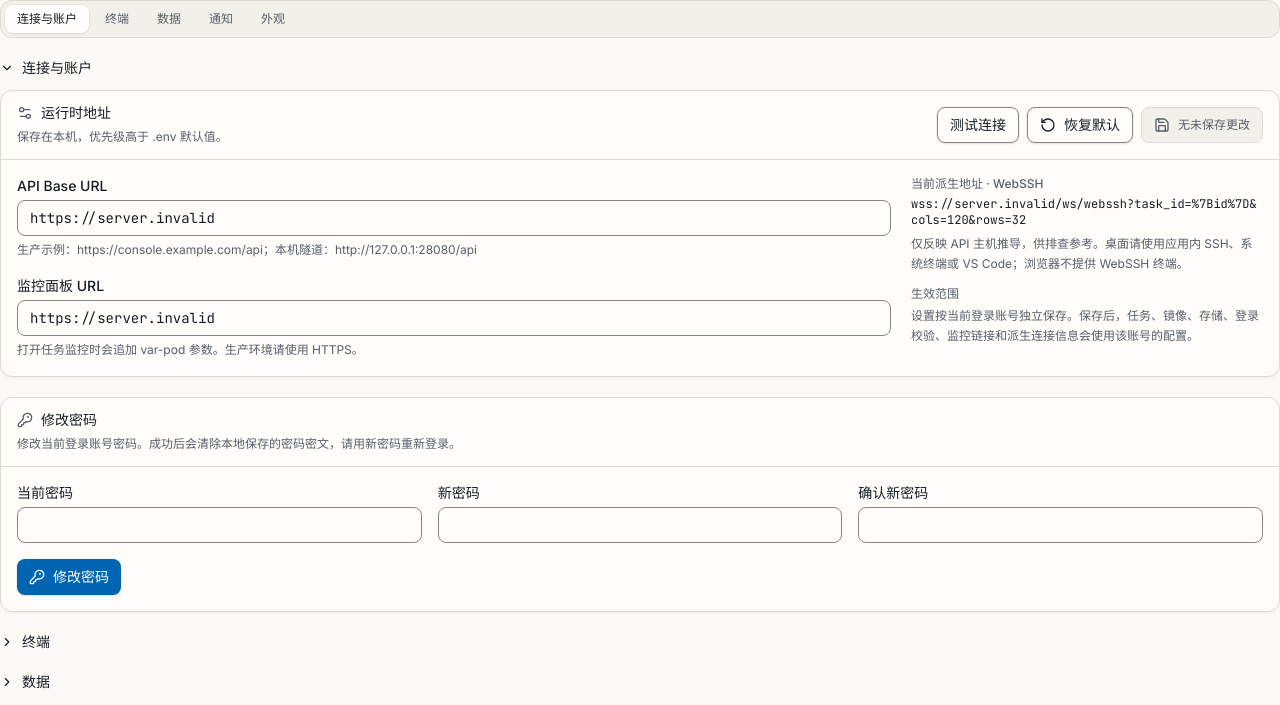
Scenario: SettingsPage › exposes instance list auto refresh in settings
This screenshot has width=1280, height=705.
Click the 2nd button "数据" at (25, 682), box [0,672,50,692]
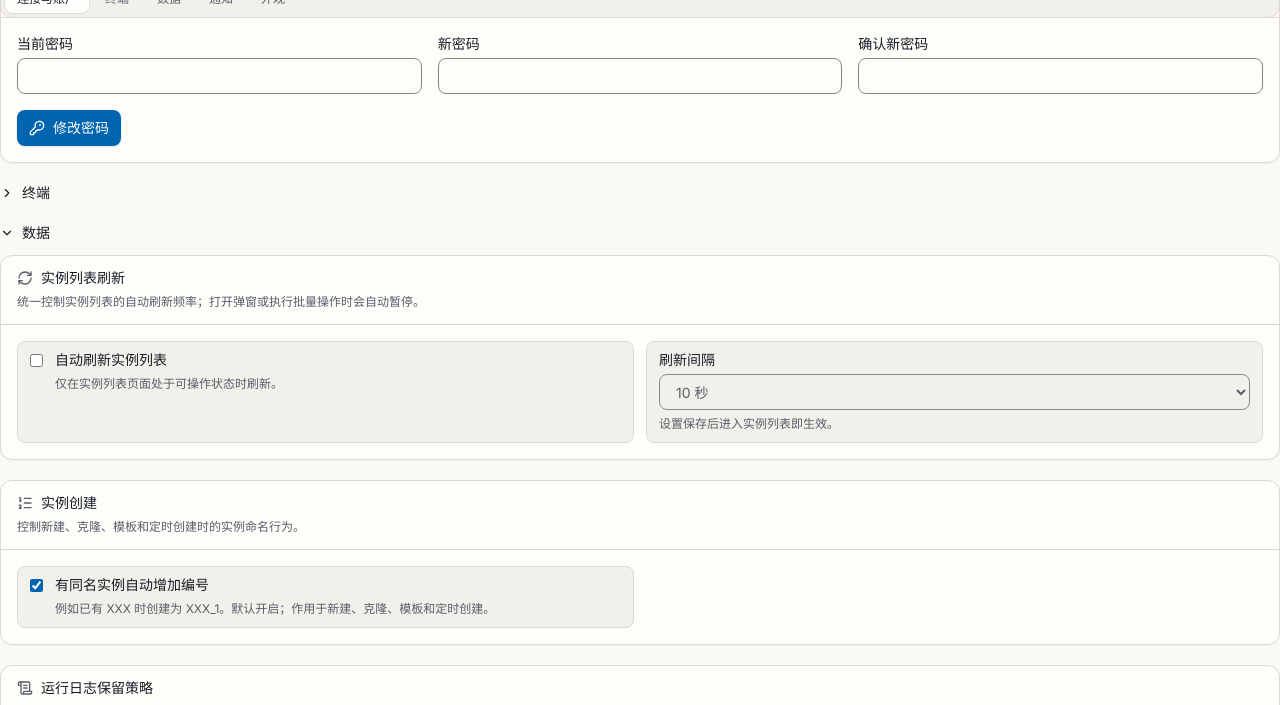
Expected: the text "自动刷新实例列表" is shown, [55,351,167,368]
Expected: the text "刷新间隔" is shown, [659,351,715,368]
